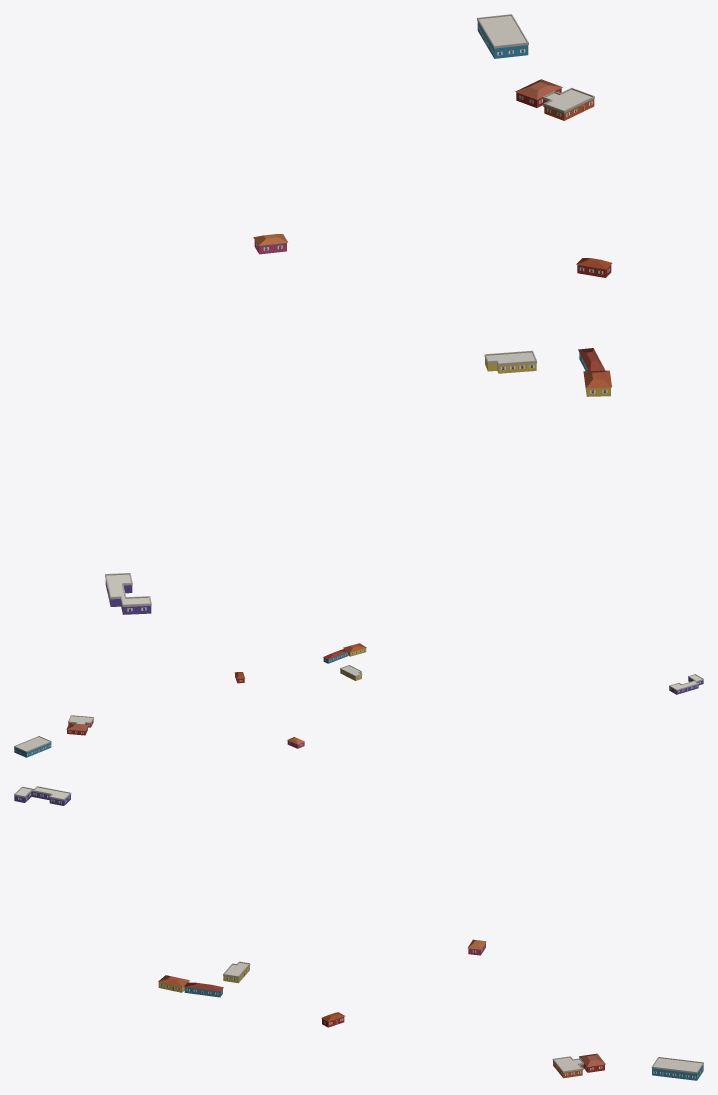
The model's file is msb_palmbeach_m21_m14.glb.
3 views of the same model, one above another, from view 1: azimuth 30°, elevation 25°; view 2: azimuth 150°, elevation 25°; view 3: azimuth 270°, elevation 25° (orthographic). The views are drawn at different scales.
Parts seen in each view (by area): view 1: msb_palmbeach_m21_m14_lod0; view 2: msb_palmbeach_m21_m14_lod0; view 3: msb_palmbeach_m21_m14_lod0.
Boxes of the visible parts, box(x1,y1,x2,y2) form: msb_palmbeach_m21_m14_lod0: box(105, 14, 612, 614); msb_palmbeach_m21_m14_lod0: box(14, 643, 703, 757); msb_palmbeach_m21_m14_lod0: box(14, 786, 703, 1080).
Size of what is drawn, in the model's own units: 362 by 9.2 by 358.
3 materials, 1 textured.
